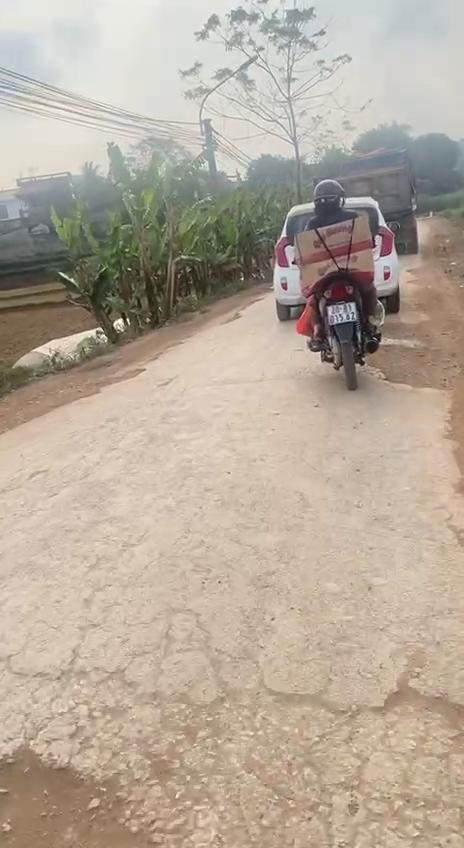pothole: (0, 740, 192, 848), (363, 330, 449, 395)
